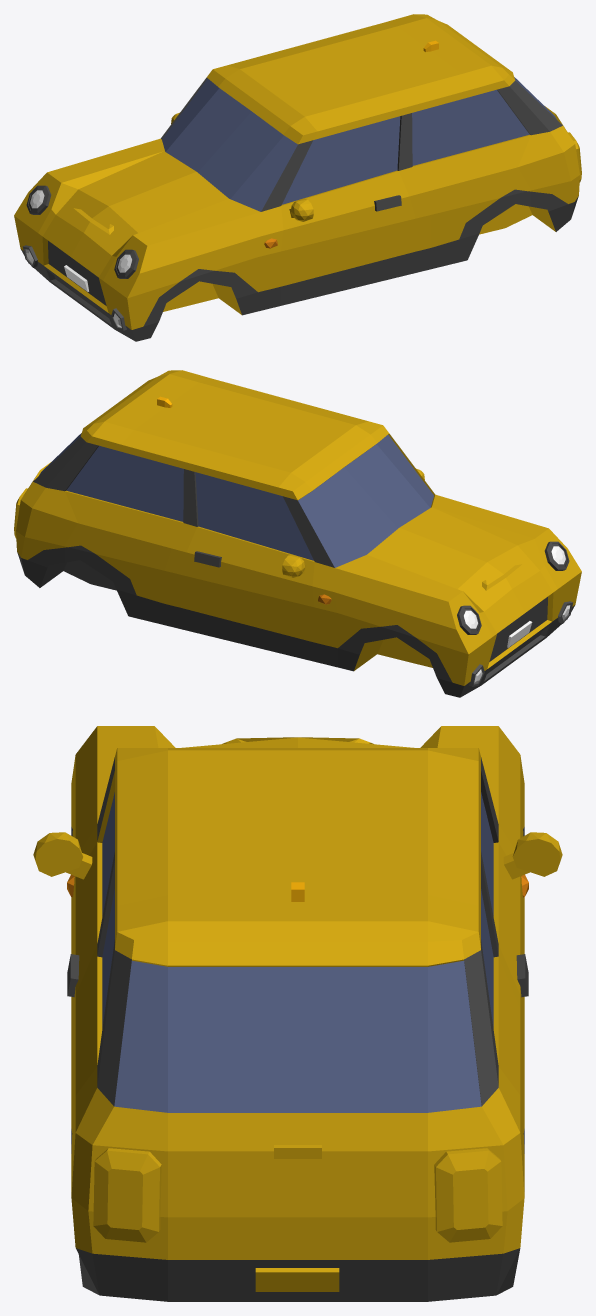
The model's file is car_G_body.fbx.
3 renders of one model, top to bottom at view 1: azimuth 30°, elevation 25°; view 2: azimuth 150°, elevation 25°; view 3: azimuth 270°, elevation 25°, orthographic. The views are drawn at different scales.
Visible parts, largest first — view 1: Mini1; view 2: Mini1; view 3: Mini1.
Part boxes in pixels (x1,y1,x2,y2): Mini1: (14,14,581,341); Mini1: (14,370,581,697); Mini1: (33,726,562,1301).
Bounding box in the file's own units: 1523 × 553 × 748.
